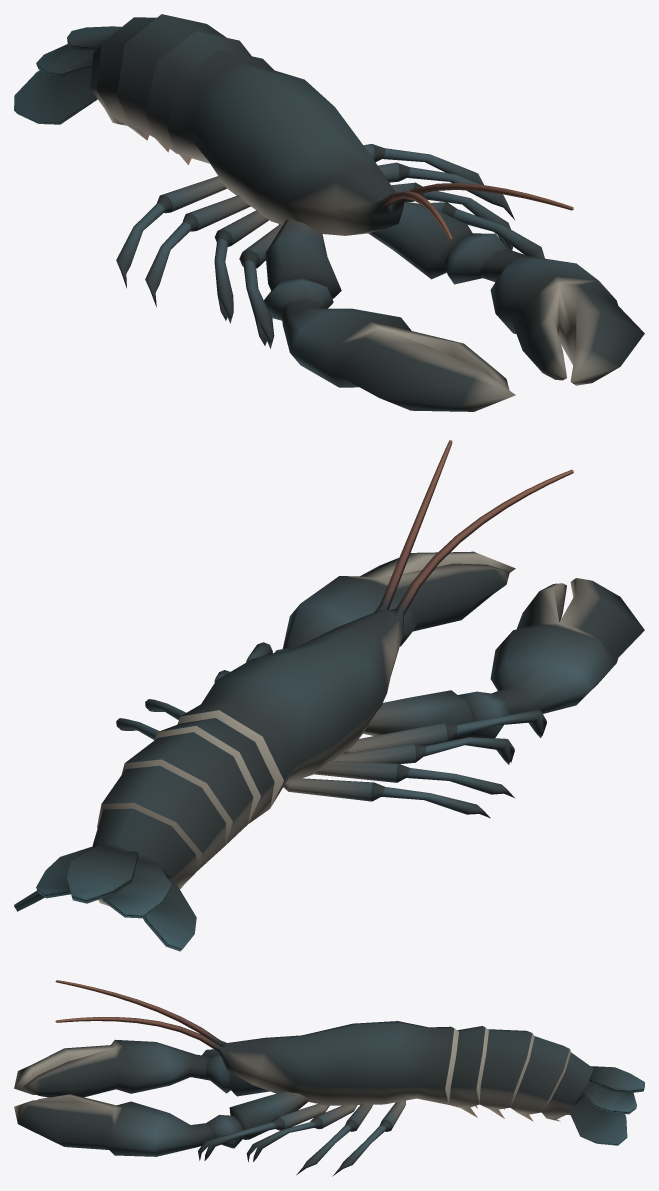
File: underwater-crustaceans-lobster_v1.glb
3 views of the same model, one above another, from view 1: azimuth 30°, elevation 25°; view 2: azimuth 150°, elevation 25°; view 3: azimuth 270°, elevation 25° (orthographic). The views are drawn at different scales.
Parts seen in each view (by area): view 1: Lobster; view 2: Lobster; view 3: Lobster.
Part boxes in pixels (<box>): Lobster: <box>14,14,644,411</box>; Lobster: <box>14,440,644,951</box>; Lobster: <box>14,980,644,1176</box>.
Size of the model in its own units: 0.2265 by 0.1035 by 0.5.
